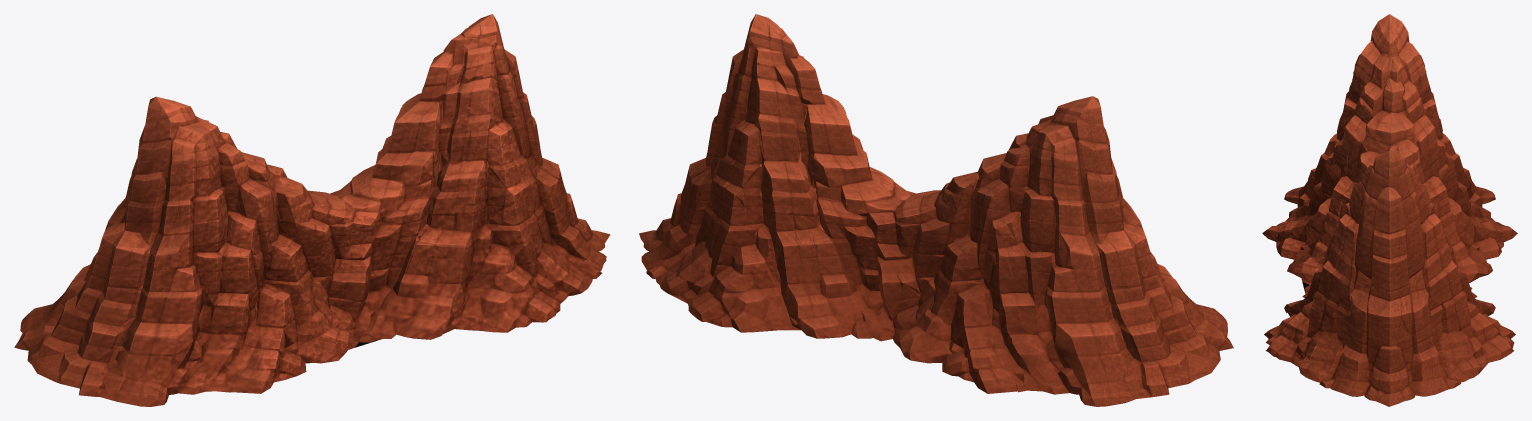
The model's file is desert_cliff_3.glb.
3 renders of one model, left to right at view 1: azimuth 30°, elevation 25°; view 2: azimuth 150°, elevation 25°; view 3: azimuth 270°, elevation 25°, orthographic. The views are drawn at different scales.
Parts seen in each view (by area): view 1: output_unwrapped; view 2: output_unwrapped; view 3: output_unwrapped.
Boxes of the visible parts, x1=… form: output_unwrapped: x1=14, y1=14, x2=610, y2=406; output_unwrapped: x1=639, y1=14, x2=1233, y2=406; output_unwrapped: x1=1262, y1=14, x2=1517, y2=406.
Size of the model in its own units: 1.9 by 0.79 by 0.8796.
Materials: 1 (1 with a texture image).
